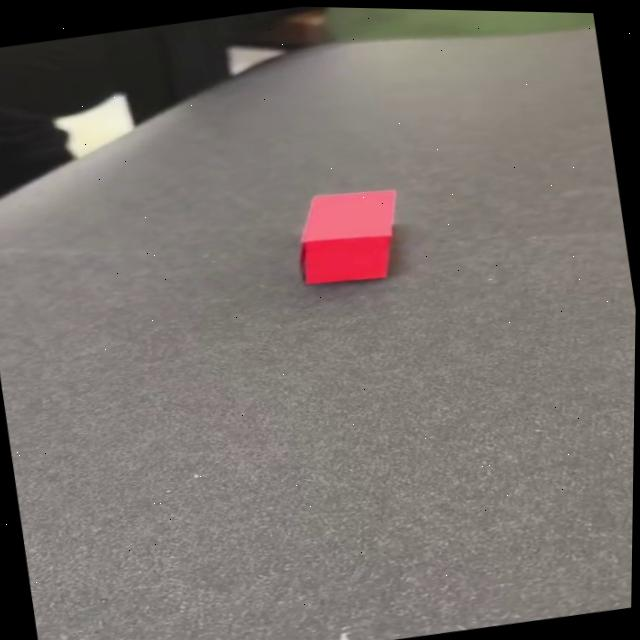red block: (287, 181, 407, 291)
